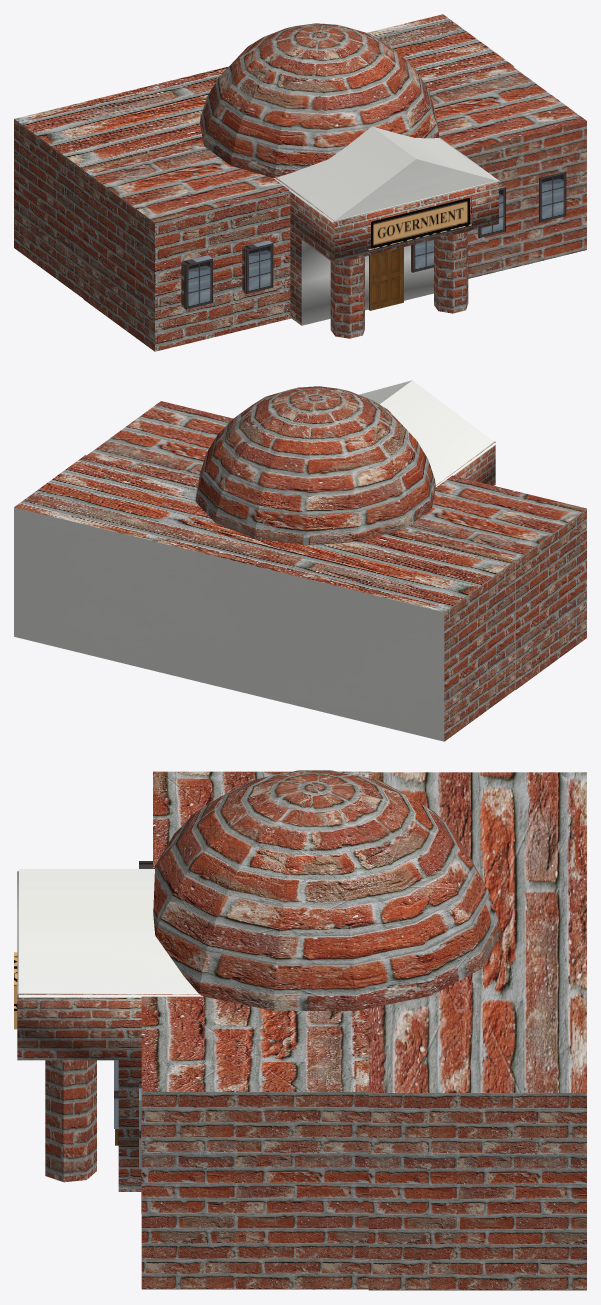
File: GOVmodelv3.fbx
3 renders of one model, top to bottom at view 1: azimuth 30°, elevation 25°; view 2: azimuth 150°, elevation 25°; view 3: azimuth 270°, elevation 25°, orthographic. The views are drawn at different scales.
Visible parts, largest first — view 1: Cube.008; view 2: Cube.008; view 3: Cube.008.
Part boxes in pixels (x1,y1,x2,y2): Cube.008: (14, 14, 586, 351); Cube.008: (14, 380, 586, 741); Cube.008: (14, 770, 586, 1290).
Bounding box in the file's own units: 523 × 262 × 394.
